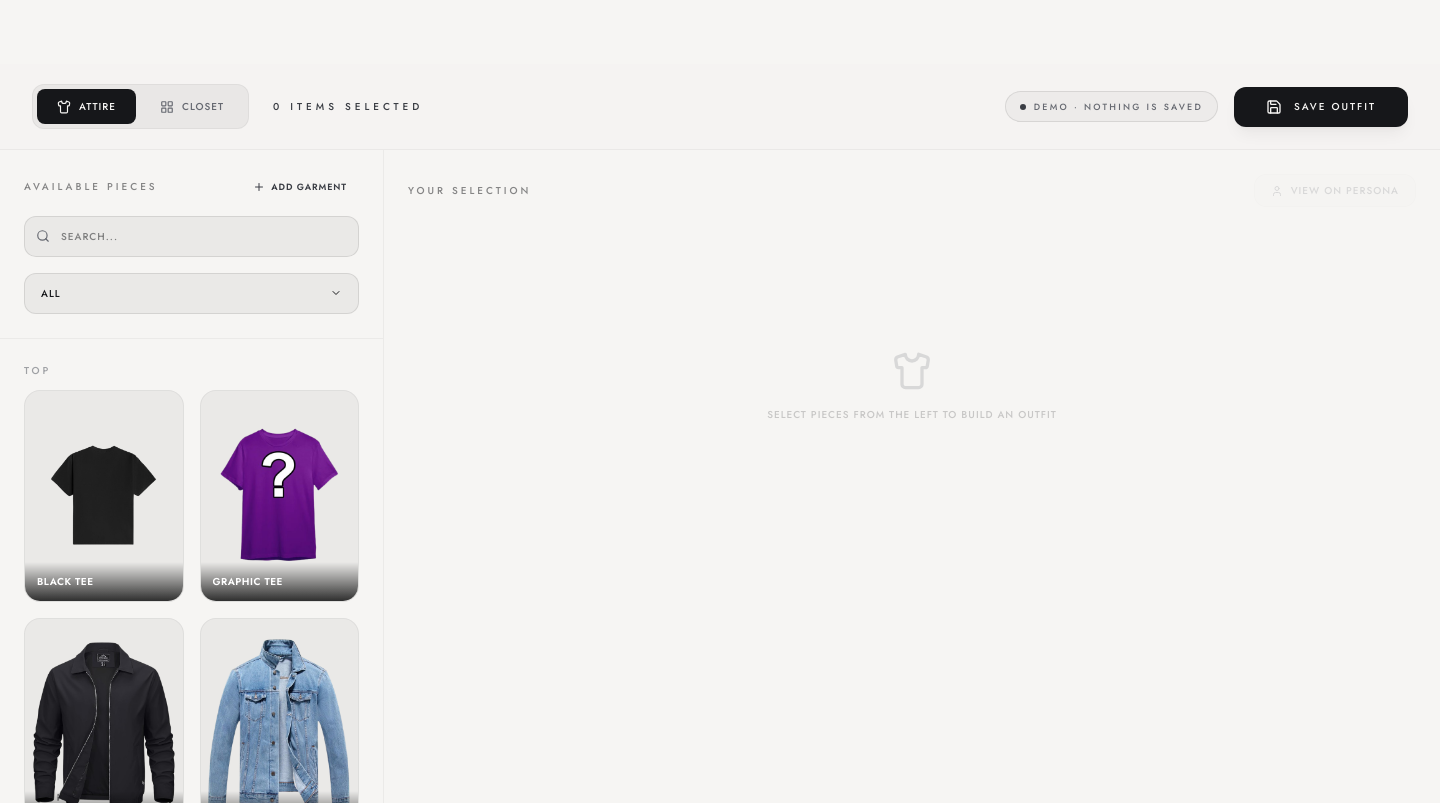
Test: DemoPage › shows the preset closet and lets a visitor select an item for free
Expected: the text "0 Items Selected" is shown, [273,99,423,114]
What coordinates should you click on to do the following:
click the element showing "Black Tee"
I would click on:
 (104, 496)
Its box is [24,390,184,602].
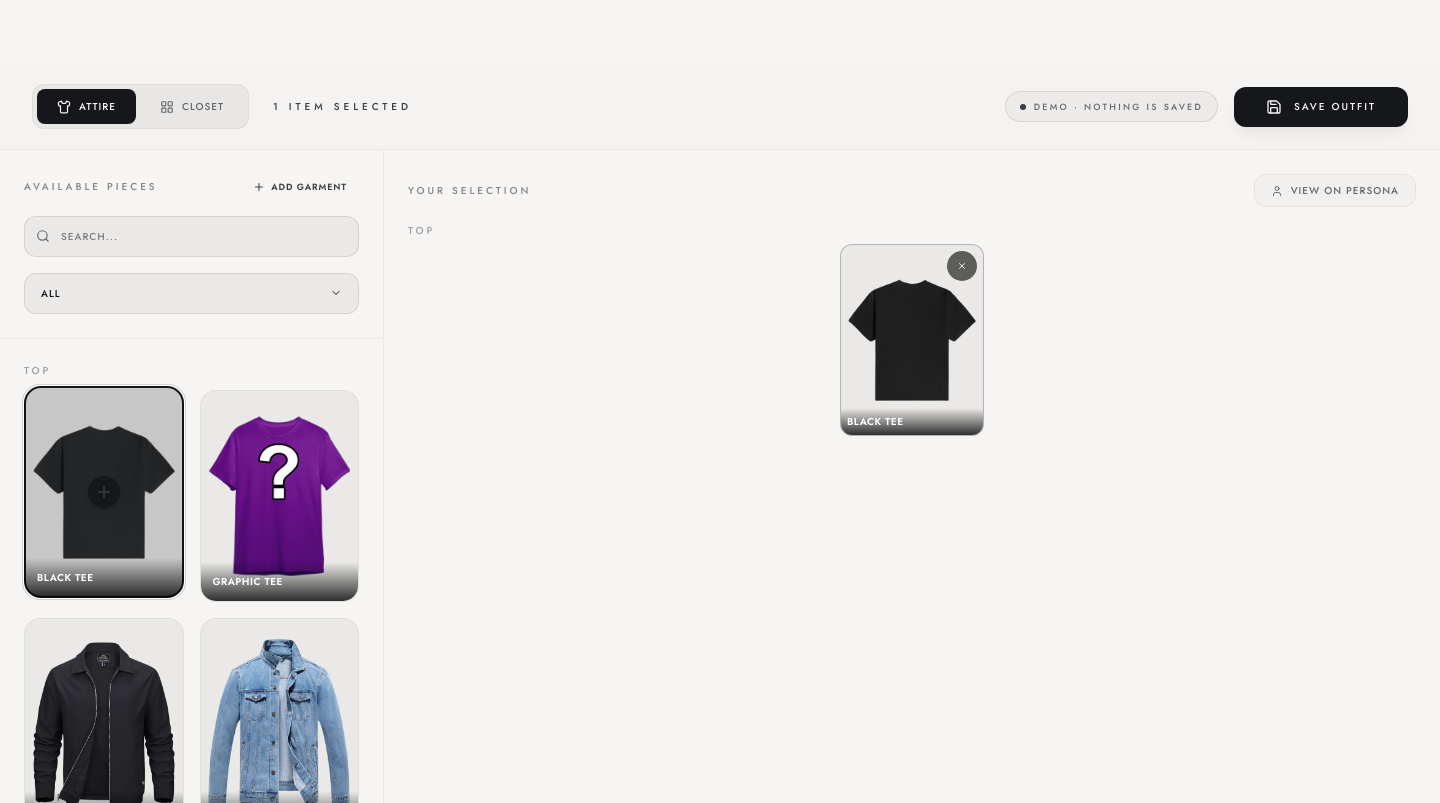
Now the text "1 Item Selected" is shown, box [273,99,412,114]
